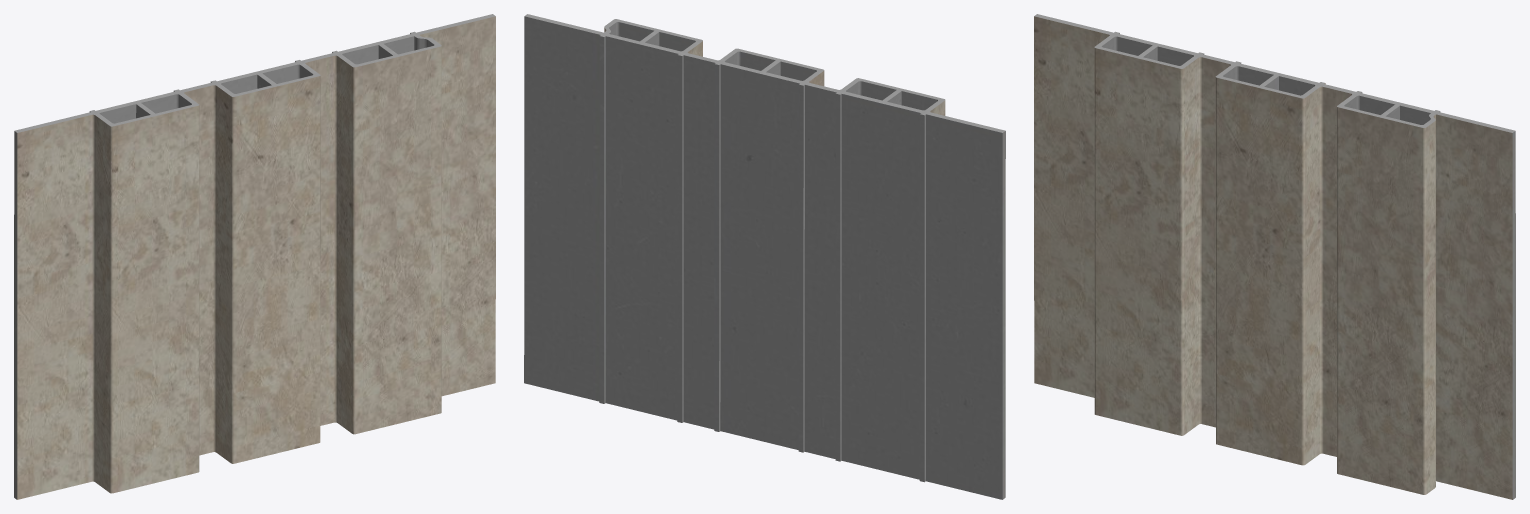
Rendered from traverten.glb.
3 views of the same model, side by side, from view 1: azimuth 30°, elevation 25°; view 2: azimuth 150°, elevation 25°; view 3: azimuth 330°, elevation 25° (orthographic).
Visible parts, largest first — view 1: Plane.007; view 2: Plane.007; view 3: Plane.007.
Part boxes in pixels (x1,y1,x2,y2): Plane.007: [14, 14, 495, 499]; Plane.007: [524, 14, 1005, 499]; Plane.007: [1034, 14, 1515, 499].
Size of the model in its own units: 10.06 by 7.37 by 0.7962.
Materials: 2 (2 with a texture image).
